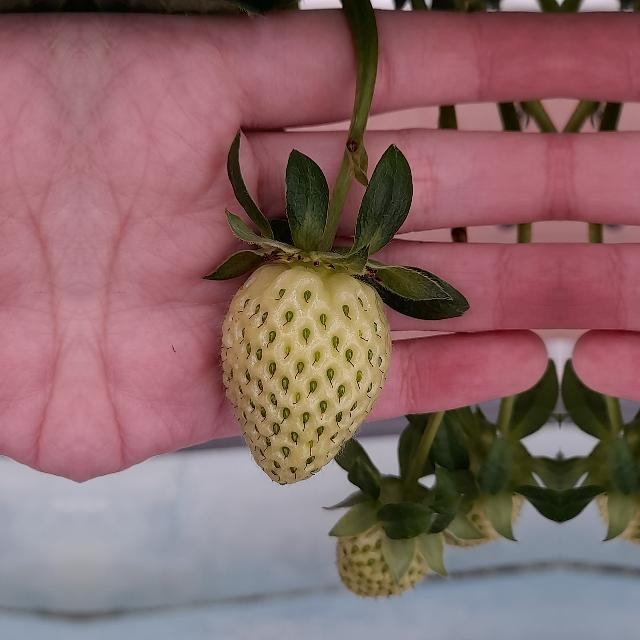Health_25: (221, 257, 391, 485), (334, 496, 432, 602)
